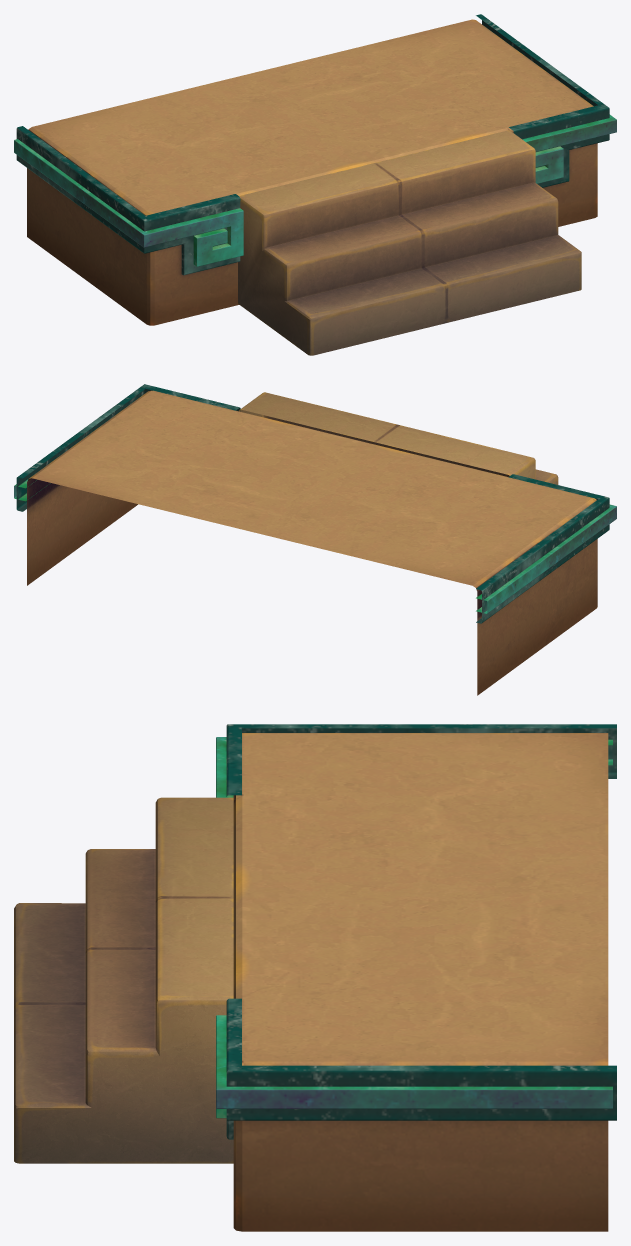
Rendered from escaleras.glb.
3 views of the same model, one above another, from view 1: azimuth 30°, elevation 25°; view 2: azimuth 150°, elevation 25°; view 3: azimuth 270°, elevation 25° (orthographic). The views are drawn at different scales.
Parts seen in each view (by area): view 1: base, escaleras_low; view 2: base, escaleras_low; view 3: base, escaleras_low.
Part boxes in pixels (left/top/right/bottom): base: left=14, top=14, right=616, bottom=325; escaleras_low: left=238, top=130, right=581, bottom=355; base: left=14, top=384, right=616, bottom=695; escaleras_low: left=239, top=392, right=558, bottom=484; base: left=216, top=724, right=616, bottom=1231; escaleras_low: left=14, top=797, right=233, bottom=1163.
Bounding box in the file's own units: 3.49 × 0.7695 × 2.52.
2 materials, 2 textured.
